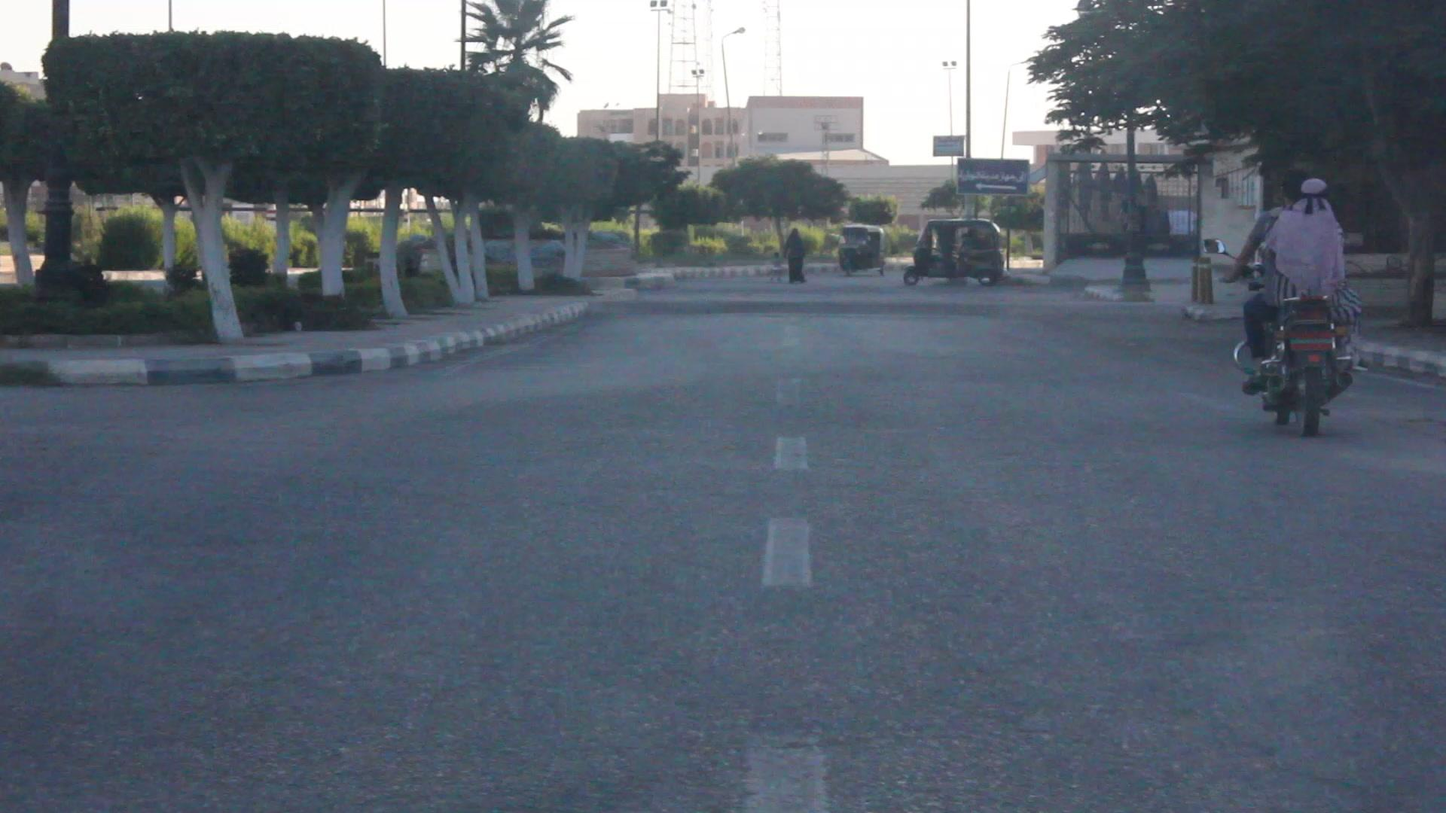Bump: (614, 292, 1017, 318)
